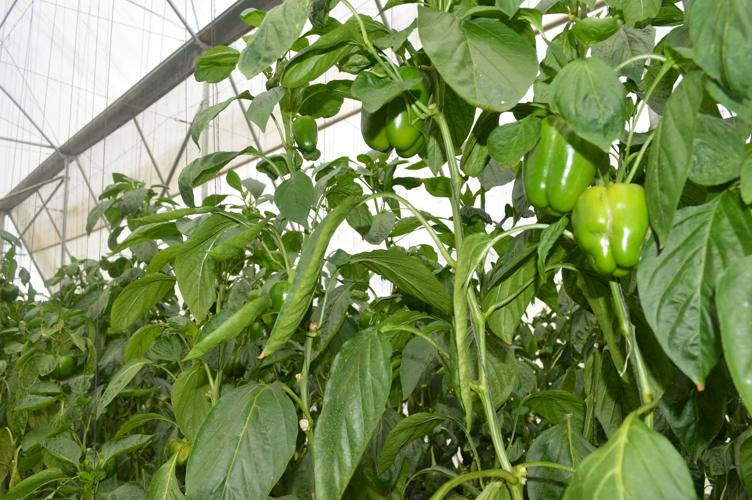BellPepper: (573, 183, 653, 281), (357, 70, 436, 159), (525, 116, 594, 212)
